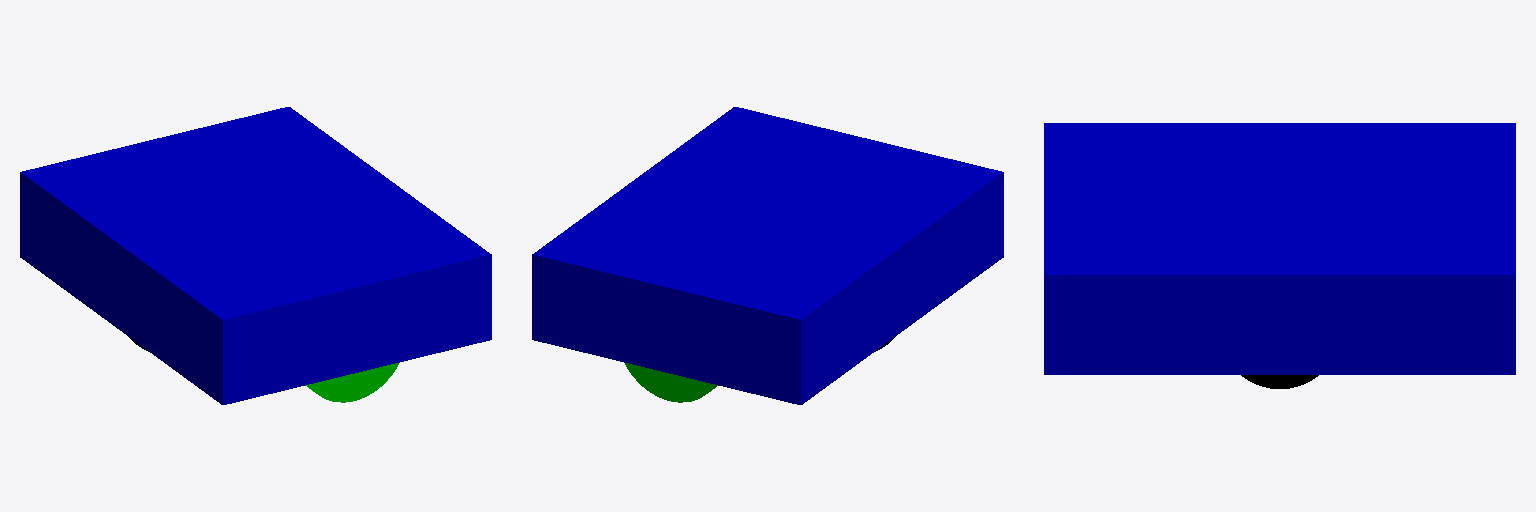
URDF robot description (val2sim):
<?xml version="1.0" encoding="utf-8"?>
<!-- =================================================================================== -->
<!-- |    This document was autogenerated by xacro from val2sim.xacro                  | -->
<!-- |    EDITING THIS FILE BY HAND IS NOT RECOMMENDED                                 | -->
<!-- =================================================================================== -->
<robot name="val2sim">
  <material name="black">
    <color rgba="0.0 0.0 0.0 1.0"/>
  </material>
  <material name="light_black">
    <color rgba="0.64706 0.61961 0.58824 1"/>
  </material>
  <material name="blue">
    <color rgba="0.0 0.0 0.8 1.0"/>
  </material>
  <material name="green">
    <color rgba="0.0 0.8 0.0 1.0"/>
  </material>
  <material name="grey">
    <color rgba="0.2 0.2 0.2 1.0"/>
  </material>
  <material name="orange">
    <color rgba="1.0 0.423529411765 0.0392156862745 1.0"/>
  </material>
  <material name="brown">
    <color rgba="0.870588235294 0.811764705882 0.764705882353 1.0"/>
  </material>
  <material name="red">
    <color rgba="0.8 0.0 0.0 1.0"/>
  </material>
  <material name="white">
    <color rgba="1.0 1.0 1.0 1.0"/>
  </material>
  <material name="aluminum">
    <color rgba="0.5 0.5 0.5 1.0"/>
  </material>
  <!-- <xacro:macro name="cylinder_inertia" params="m r h">
        <inertia ixx="${m*(3*r*r+h*h)/12}" ixy = "0" ixz = "0" iyy="${m*(3*r*r+h*h)/12}" iyz = "0" izz="${m*r*r/2}" />
    </xacro:macro>

    <xacro:macro name="box_inertia" params="m x y z">
        <inertia ixx="${m*(y*y+z*z)/12}" ixy = "0" ixz = "0" iyy="${m*(x*x+z*z)/12}" iyz = "0" izz="${m*(x*x+z*z)/12}" />
    </xacro:macro>

    <xacro:macro name="sphere_inertia" params="m r">
        <inertia ixx="${2*m*r*r/5}" ixy = "0" ixz = "0" iyy="${2*m*r*r/5}" iyz = "0" izz="${2*m*r*r/5}" />
    </xacro:macro> -->
  <gazebo>
    <plugin filename="libgazebo_ros_diff_drive.so" name="differential_drive_controller">
      <alwaysOn>false</alwaysOn>
      <legacyMode>false</legacyMode>
      <updateRate>20</updateRate>
      <leftJoint>left_wheel_joint</leftJoint>
      <rightJoint>right_wheel_joint</rightJoint>
      <wheelSeparation>0.525</wheelSeparation>
      <wheelDiameter>0.15</wheelDiameter>
      <torque>20</torque>
      <commandTopic>/twist_mux/cmd_vel</commandTopic>
      <odometryTopic>/val2/base_controller/odom</odometryTopic>
      <odometryFrame>odom</odometryFrame>
      <robotBaseFrame>base_footprint</robotBaseFrame>
      <rosDebugLevel/>
      <publishWheelTF>false</publishWheelTF>
      <publishOdomTF>true</publishOdomTF>
      <publishWheelJointState>false</publishWheelJointState>
      <wheelAcceleration>0</wheelAcceleration>
      <wheelTorque>5</wheelTorque>
      <!-- <odometrySource></odometrySource> -->
      <publishTf>1</publishTf>
    </plugin>
  </gazebo>
  <link name="base_footprint">
    <visual>
      <origin rpy="0 0 0" xyz="0 0 0"/>
      <geometry>
        <box size="0.001 0.001 0.001"/>
      </geometry>
    </visual>
    <collision>
      <origin rpy="0 0 0" xyz="0 0 0"/>
      <geometry>
        <box size="0.001 0.001 0.001"/>
      </geometry>
    </collision>
  </link>
  <link name="base_link">
    <inertial>
      <mass value="10"/>
      <inertia ixx="0.300083333333" ixy="0.0" ixz="0.0" iyy="0.476333333333" iyz="0.0" izz="0.176416666667"/>
    </inertial>
    <visual>
      <origin rpy="0 0 0" xyz="0.0 0 0.025"/>
      <geometry>
        <box size="0.46 0.6 0.14"/>
      </geometry>
      <material name="blue"/>
    </visual>
    <collision>
      <origin rpy="0 0 0" xyz="0.0 0 0.025"/>
      <geometry>
        <box size="0.46 0.6 0.14"/>
      </geometry>
    </collision>
    <collision name="caster_front_collision">
      <origin rpy="0 0 0" xyz="0.150 0.0 -0.0164"/>
      <geometry>
        <sphere radius="0.0785"/>
      </geometry>
      <surface>
        <friction>
          <ode>
            <mu>0</mu>
            <mu2>0</mu2>
            <slip1>1.0</slip1>
            <slip2>1.0</slip2>
          </ode>
        </friction>
      </surface>
    </collision>
    <visual name="caster_front_visual">
      <origin rpy=" 0 0 0" xyz="0.150 0.0 -0.0164"/>
      <geometry>
        <sphere radius="0.0785"/>
      </geometry>
      <material name="black"/>
    </visual>
    <collision name="caster_back_collision">
      <origin rpy="0 0 0" xyz="-0.150 0.0 -0.0164"/>
      <geometry>
        <sphere radius="0.0785"/>
      </geometry>
      <surface>
        <friction>
          <ode>
            <mu>0</mu>
            <mu2>0</mu2>
            <slip1>1.0</slip1>
            <slip2>1.0</slip2>
          </ode>
        </friction>
      </surface>
    </collision>
    <visual name="caster_back_visual">
      <origin rpy="0 0 0" xyz="-0.150 0.0 -0.0164"/>
      <geometry>
        <sphere radius="0.0785"/>
      </geometry>
      <material name="black"/>
    </visual>
  </link>
  <joint name="base_link_joint" type="fixed">
    <origin rpy="0 0 0" xyz="0.0 0 0.09"/>
    <parent link="base_footprint"/>
    <child link="base_link"/>
  </joint>
  <link name="left_wheel">
    <visual>
      <origin rpy="1.57079632679 0 0" xyz="0 0 0"/>
      <geometry>
        <cylinder length="0.035" radius="0.09"/>
      </geometry>
      <material name="green"/>
    </visual>
    <collision>
      <origin rpy="1.57079632679 0 0" xyz="0 0 0"/>
      <geometry>
        <cylinder length="0.035" radius="0.09"/>
      </geometry>
    </collision>
    <inertial>
      <mass value="10"/>
      <inertia ixx="0.0202708333333" ixy="0" ixz="0" iyy="0.0202708333333" iyz="0" izz="0.0405"/>
    </inertial>
  </link>
  <joint name="left_wheel_joint" type="continuous">
    <axis rpy="0 0 0" xyz="0 1 0"/>
    <parent link="base_link"/>
    <child link="left_wheel"/>
    <!-- <origin xyz="${wheel_joint_offset} ${((base_width/2)+base_wheel_gap)*reflect} -0.005" rpy="0 0 0"/> -->
    <origin rpy="0 0 0" xyz="0.0 0.274 -0.005"/>
  </joint>
  <link name="right_wheel">
    <visual>
      <origin rpy="1.57079632679 0 0" xyz="0 0 0"/>
      <geometry>
        <cylinder length="0.035" radius="0.09"/>
      </geometry>
      <material name="green"/>
    </visual>
    <collision>
      <origin rpy="1.57079632679 0 0" xyz="0 0 0"/>
      <geometry>
        <cylinder length="0.035" radius="0.09"/>
      </geometry>
    </collision>
    <inertial>
      <mass value="10"/>
      <inertia ixx="0.0202708333333" ixy="0" ixz="0" iyy="0.0202708333333" iyz="0" izz="0.0405"/>
    </inertial>
  </link>
  <joint name="right_wheel_joint" type="continuous">
    <axis rpy="0 0 0" xyz="0 1 0"/>
    <parent link="base_link"/>
    <child link="right_wheel"/>
    <!-- <origin xyz="${wheel_joint_offset} ${((base_width/2)+base_wheel_gap)*reflect} -0.005" rpy="0 0 0"/> -->
    <origin rpy="0 0 0" xyz="0.0 -0.274 -0.005"/>
  </joint>
  <joint name="laser_base_fixed" type="fixed">
    <!-- <origin xyz="0 0 0" rpy="0 0 0"/> -->
    <origin rpy="0 0 0" xyz="0.15 0 0.10"/>
    <parent link="base_link"/>
    <child link="laser_base_link"/>
  </joint>
  <link name="laser_base_link">
    <visual>
      <origin rpy="0 0 0" xyz="0 0 0"/>
      <geometry>
        <mesh filename="package://val2sim_model/sensors/ydlidar/meshes/ydlidar_g4.dae"/>
      </geometry>
      <material name="light_black"/>
    </visual>
    <collision>
      <origin rpy="0 0 0" xyz="0 0 0.02"/>
      <geometry>
        <cylinder length="0.05" radius="0.040"/>
        <!-- <mesh filename="package://val2sim_model/sensors/ydlidar/meshes/ydlidar_g4.dae" /> -->
      </geometry>
    </collision>
    <inertial>
      <origin rpy="0 0 0" xyz="-0.00029774 0.0066667 0.00013047"/>
      <mass value="0.15717"/>
      <inertia ixx="6.7885E-05" ixy="-1.3987E-07" ixz="-8.1554E-07" iyy="0.00013173" iyz="-9.0932E-08" izz="7.1972E-05"/>
    </inertial>
  </link>
  <joint name="laser_fixed" type="fixed">
    <origin rpy="0 0 0" xyz="0 0 0.03172"/>
    <parent link="laser_base_link"/>
    <child link="laser_frame"/>
  </joint>
  <link name="laser_frame">
    <inertial>
      <origin rpy="0 0 0" xyz="-0.00036659 0.00064155 -0.00027052"/>
      <mass value="0.25482"/>
      <inertia ixx="8.9194E-05" ixy="1.8116E-07" ixz="3.6435E-08" iyy="0.00018279" iyz="2.423E-07" izz="0.00011103"/>
    </inertial>
  </link>
  <gazebo reference="laser_frame">
    <sensor name="laser_sensor" type="ray">
      <pose>0 0 0 0 0 0</pose>
      <visualize>True</visualize>
      <!-- <visualize>true</visualize> -->
      <update_rate>20</update_rate>
      <ray>
        <scan>
          <horizontal>
            <!-- 180 deg -> 640 -->
            <!-- <samples>640</samples> -->
            <!-- <samples>1280</samples>  -->
            <samples>1280.3864204</samples>
            <resolution>1</resolution>
            <min_angle>-3.14159</min_angle>
            <max_angle>3.14159</max_angle>
          </horizontal>
        </scan>
        <range>
          <min>0.26</min>
          <max>12.0</max>
          <resolution>0.03</resolution>
        </range>
        <noise>
          <type>gaussian</type>
          <mean>0.0</mean>
          <stddev>0.005</stddev>
        </noise>
      </ray>
      <plugin filename="libgazebo_ros_laser.so" name="laser_gazebo_plugin">
        <robotNamespace>val2</robotNamespace>
        <topicName>/scan</topicName>
        <frameName>/laser_frame</frameName>
      </plugin>
    </sensor>
  </gazebo>
</robot>

--- Render facts (derived) ---
The picture shows the robot from 3 angles, left to right: view 1: azimuth 30°, elevation 25°; view 2: azimuth 150°, elevation 25°; view 3: azimuth 270°, elevation 25°; orthographic projection.
Robot: val2sim — 6 links, 5 joints (2 continuous, 3 fixed); root link base_footprint; default pose: all joints at 0.
Visible links, largest first — view 1: base_link, right_wheel; view 2: base_link, left_wheel; view 3: base_link.
Link boxes in pixels (x1,y1,x2,y2): base_link: [20, 107, 491, 404]; right_wheel: [305, 363, 398, 402]; base_link: [532, 107, 1003, 404]; left_wheel: [625, 363, 718, 402]; base_link: [1044, 123, 1515, 388].
Size in the robot's own frame: 0.46 by 0.6 by 0.19 metres.
Meshes: 1 distinct files referenced, 0 mesh visuals loaded (none loaded); not drawn: 1 (reference not matched to a file when rendering).